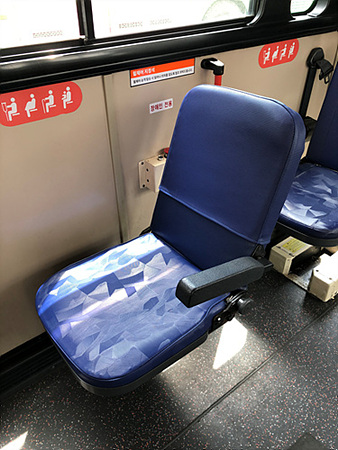seat: (30, 86, 308, 391)
